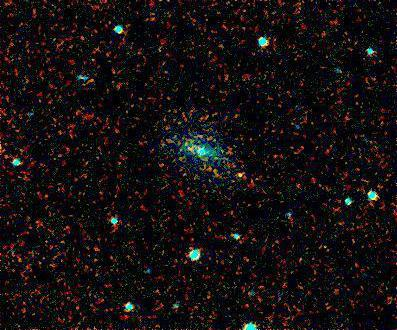star: (225, 160, 255, 190)
